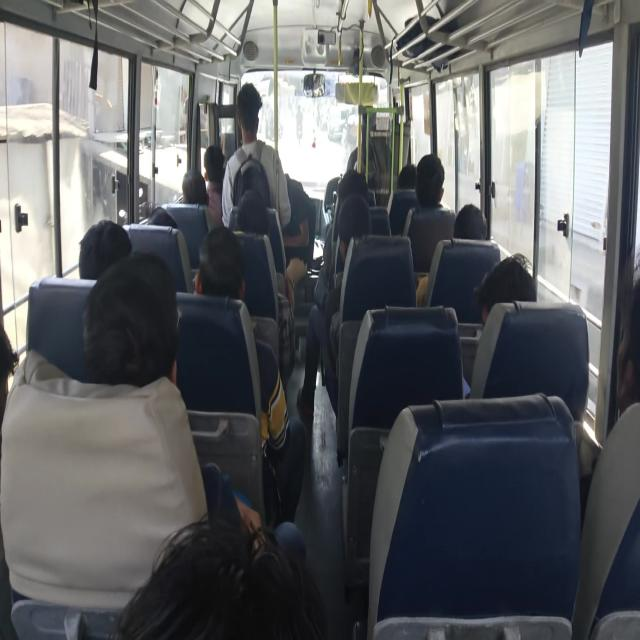person: (129, 498, 264, 640), (96, 260, 176, 408), (593, 283, 640, 419), (481, 269, 531, 349), (198, 222, 242, 302), (90, 224, 140, 286), (277, 179, 308, 276), (344, 196, 392, 257), (0, 330, 32, 408), (137, 198, 185, 235), (240, 192, 271, 243), (340, 168, 374, 203), (234, 86, 258, 134), (420, 159, 444, 205), (240, 177, 274, 208), (449, 206, 480, 239), (200, 144, 226, 182), (180, 173, 205, 209), (400, 166, 416, 190)
